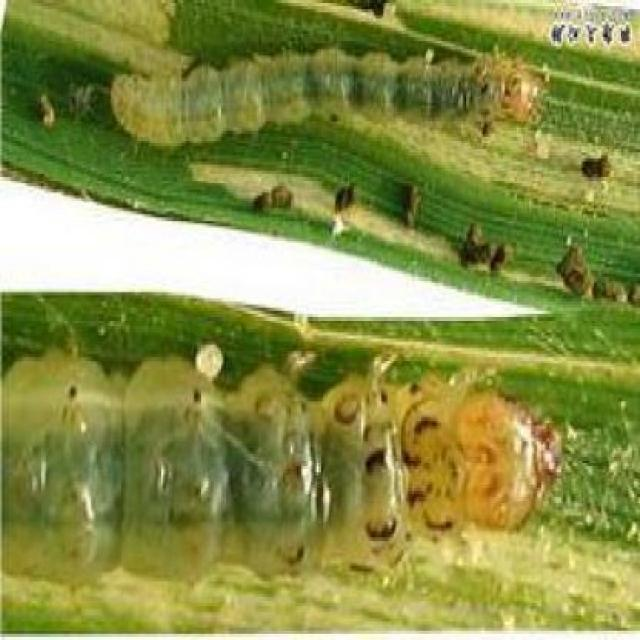leaf-folder: (11, 315, 554, 603), (77, 31, 555, 178)
